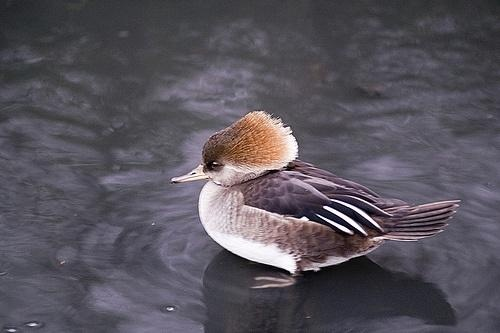bird: (170, 110, 465, 294)
